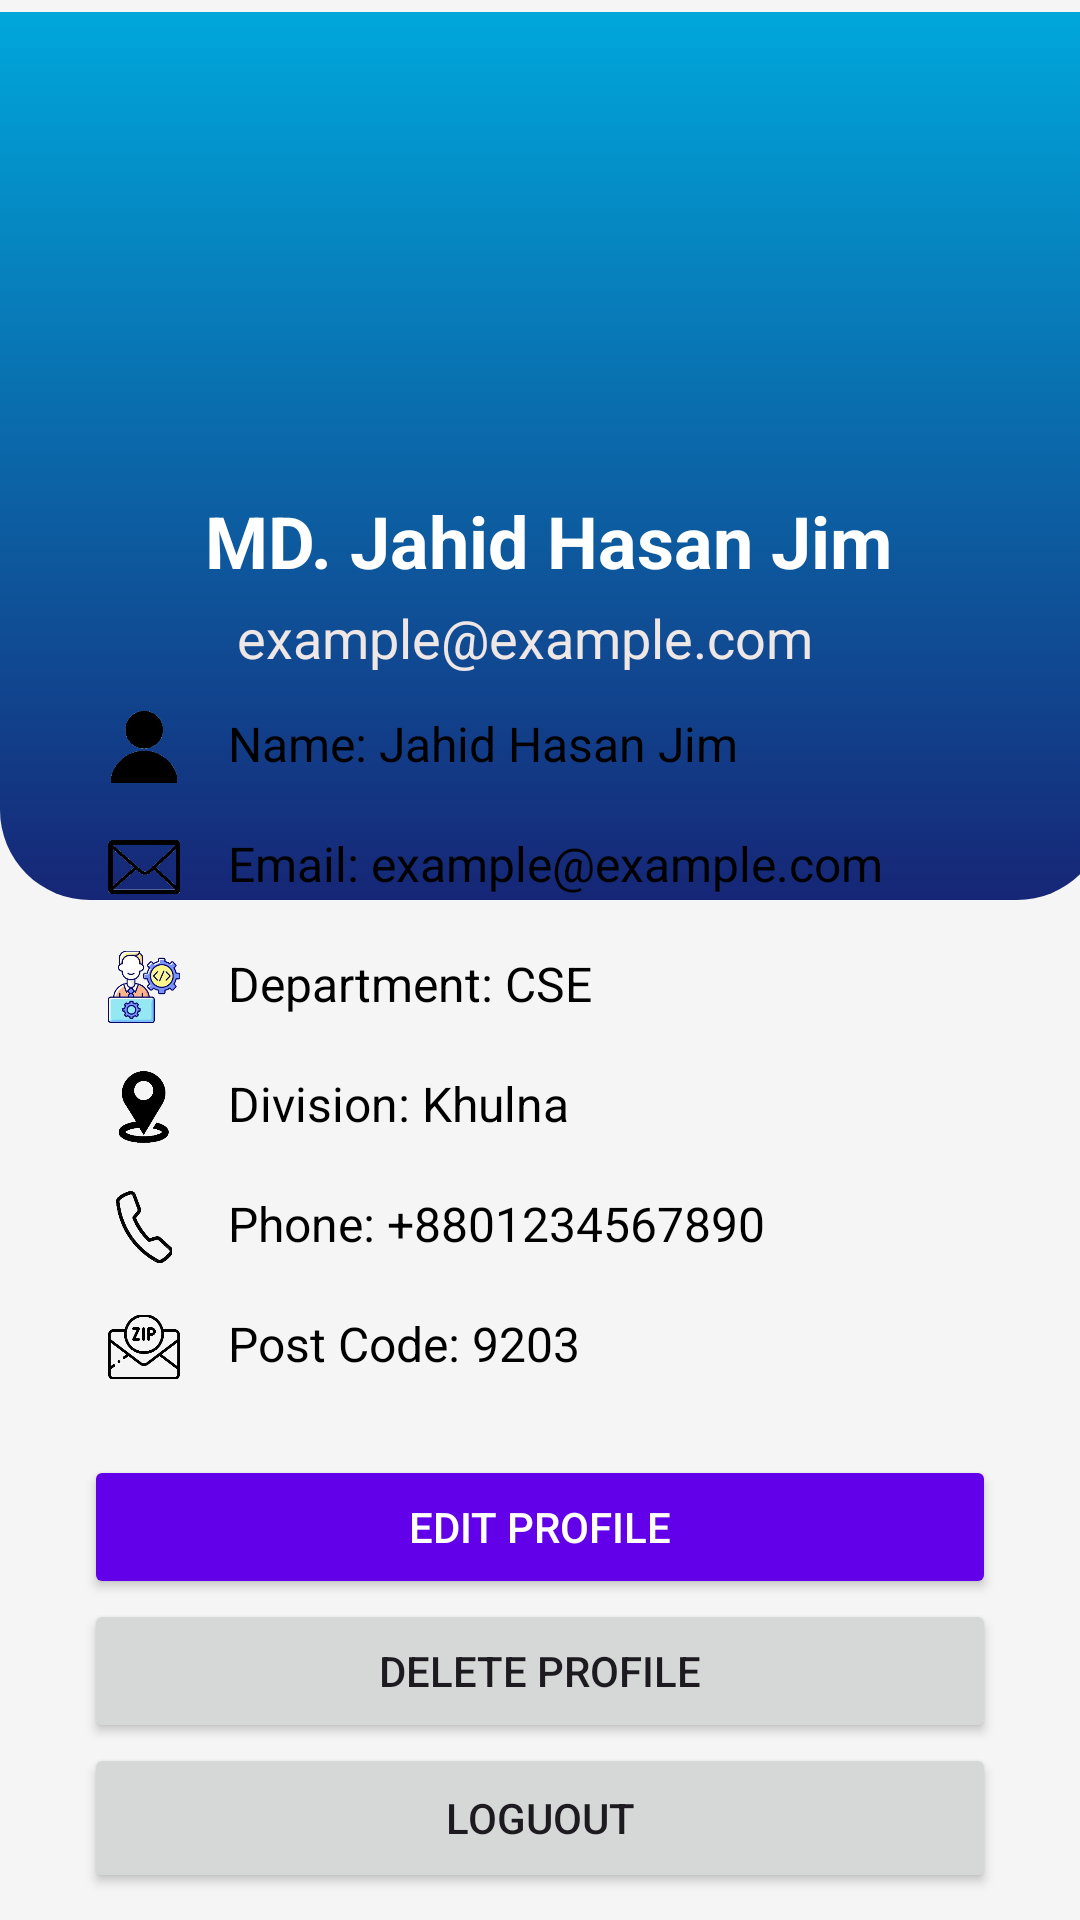

Icon click points for this 1080×1920 phone screenshot, format (x,y):
location: (144,1107)
person: (144,747)
sym action email: (144,867)
